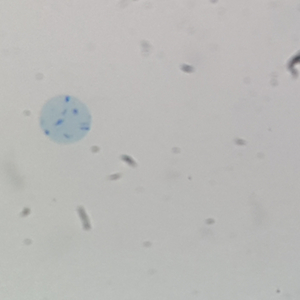aggregate reticulocyte: (37, 94, 94, 146)
